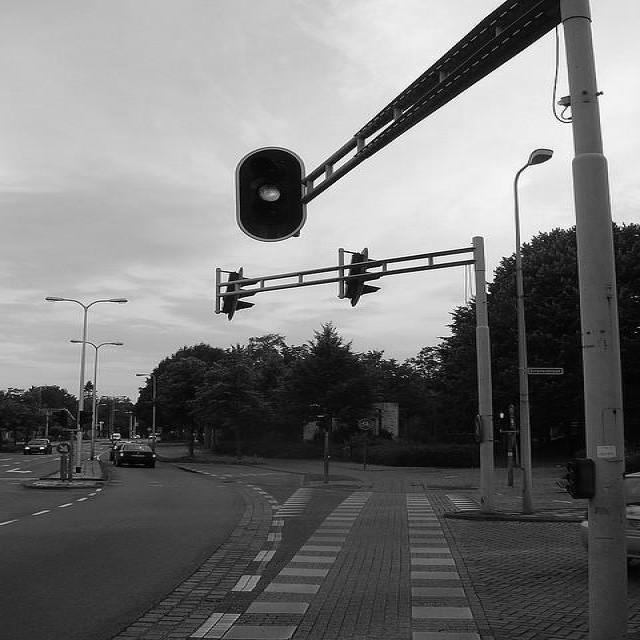vehicle: (582, 504, 640, 562), (111, 443, 157, 467), (23, 439, 51, 455), (113, 433, 121, 439)
